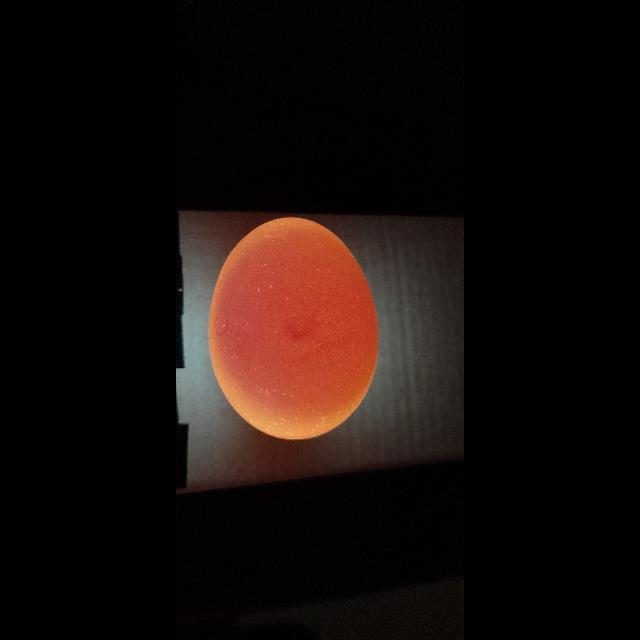Fertile: (205, 212, 379, 440)
